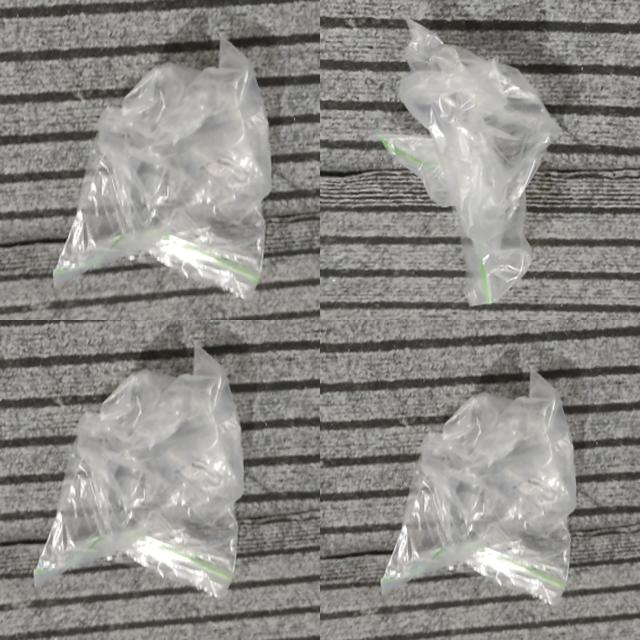Single-layer Plastic: (54, 39, 271, 299), (35, 346, 244, 598), (379, 20, 561, 305), (381, 371, 576, 604)
